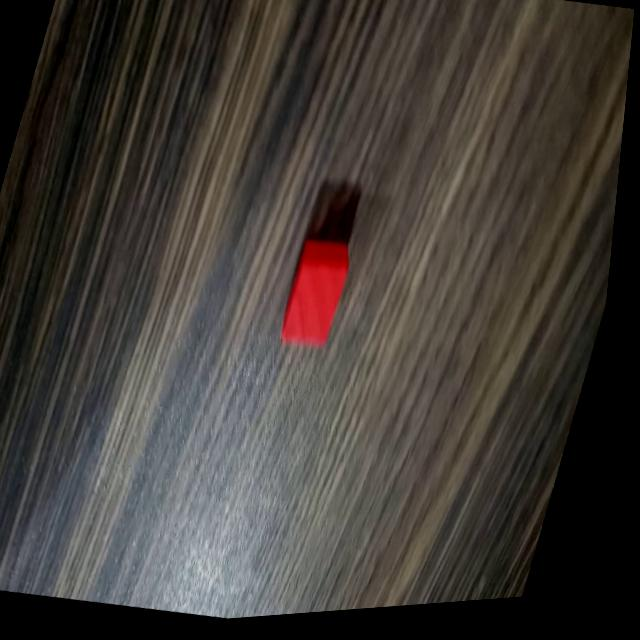cube: (279, 235, 366, 361)
